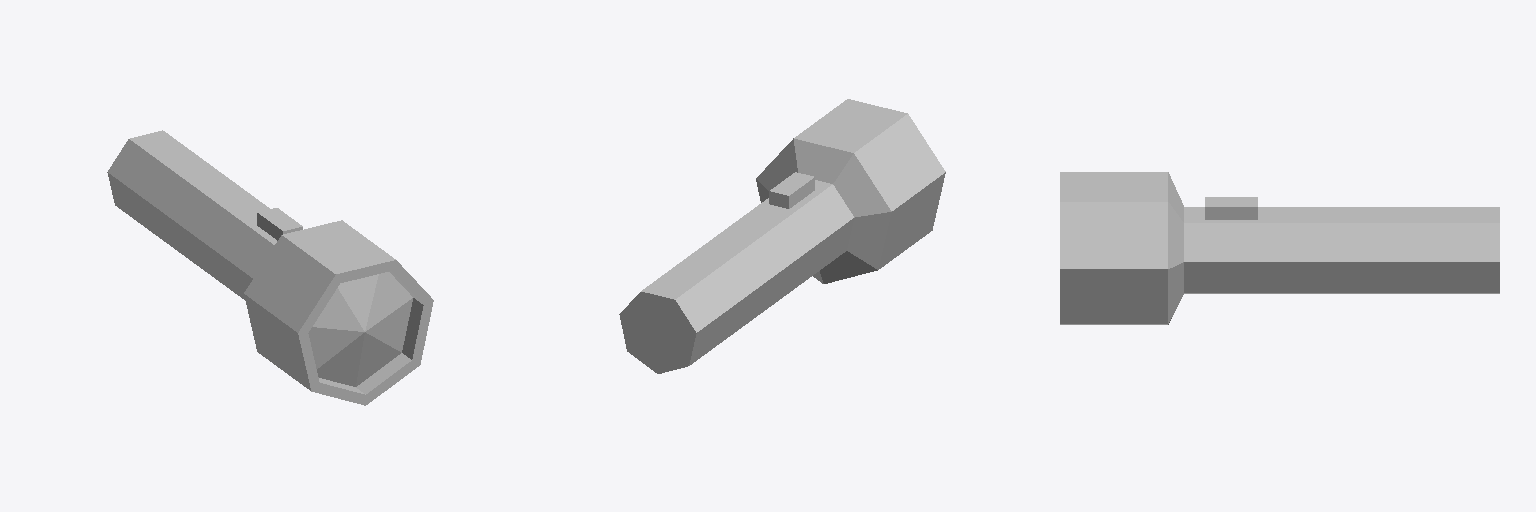
Rendered from Flashlight_A__2.obj.
The picture shows the model from 3 angles: view 1: azimuth 30°, elevation 25°; view 2: azimuth 150°, elevation 25°; view 3: azimuth 270°, elevation 25°; orthographic projection.
Visible parts, largest first — view 1: Cylinder1, Cube2; view 2: Cylinder1, Cube2; view 3: Cylinder1, Cube2.
Part boxes in pixels (x1,y1,x2,y2): Cylinder1: (107,130,433,405); Cube2: (257,208,302,240); Cylinder1: (619,99,945,373); Cube2: (769,172,814,208); Cylinder1: (1060,172,1499,324); Cube2: (1205,197,1257,219).
Bounding box in the file's own units: 3.43 × 3.34 × 9.61.